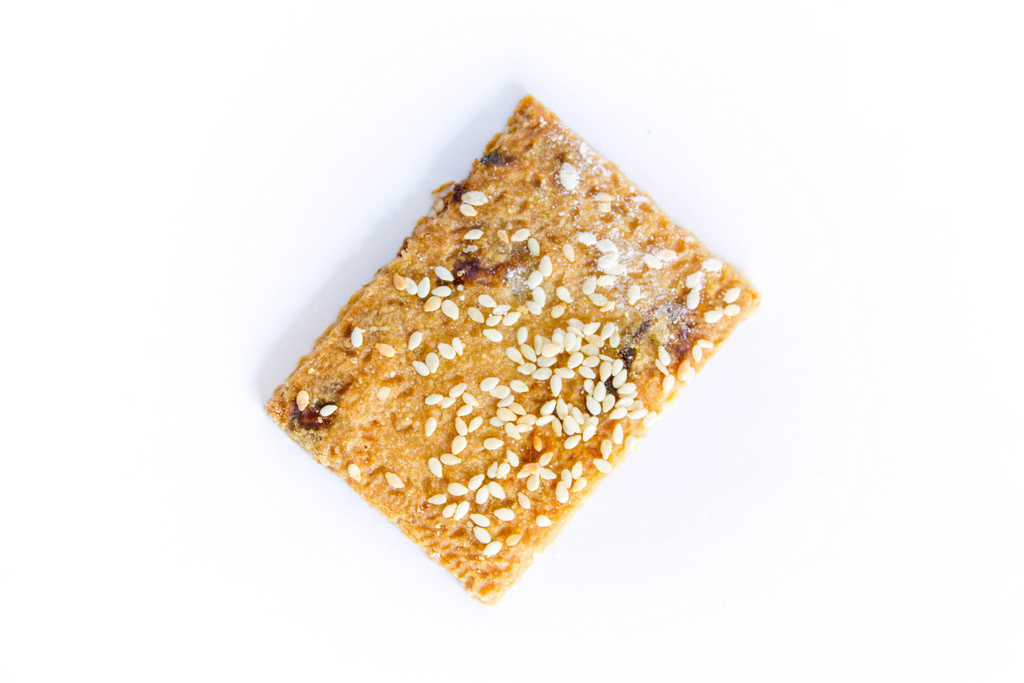slice of bread: (265, 85, 783, 601)
